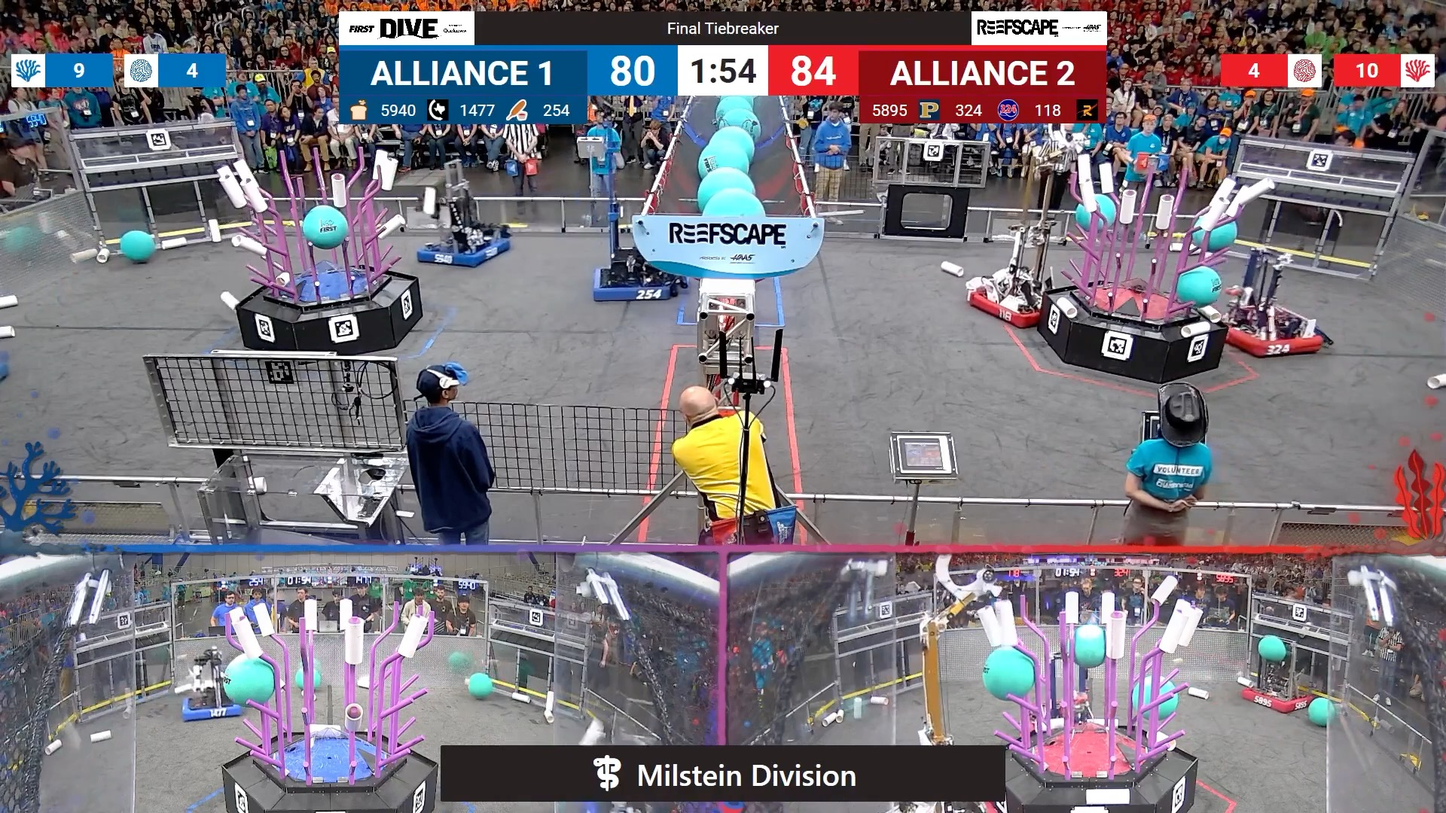bumpers: (1214, 310, 1331, 366), (964, 281, 1059, 333), (589, 262, 687, 307), (413, 236, 521, 272), (1234, 684, 1322, 718), (175, 691, 251, 727)
